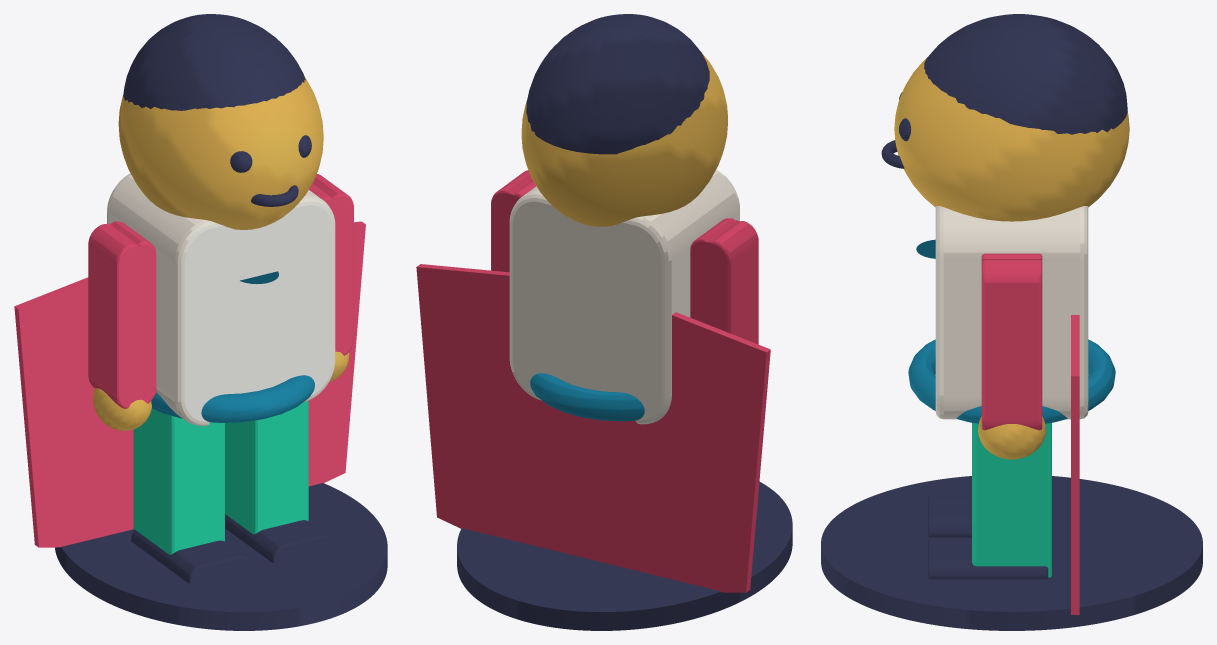
The model's file is 1337_中国古代寓言_麦场.glb.
3 renders of one model, left to right at view 1: azimuth 30°, elevation 25°; view 2: azimuth 150°, elevation 25°; view 3: azimuth 270°, elevation 25°, orthographic. The views are drawn at different scales.
Parts seen in each view (by area): view 1: card_1337; view 2: card_1337; view 3: card_1337.
Boxes of the visible parts, bbox=[...] form: card_1337: bbox=[14, 14, 387, 630]; card_1337: bbox=[416, 14, 792, 630]; card_1337: bbox=[821, 14, 1202, 630].
Bounding box in the file's own units: 0.673 × 1 × 0.6265.
